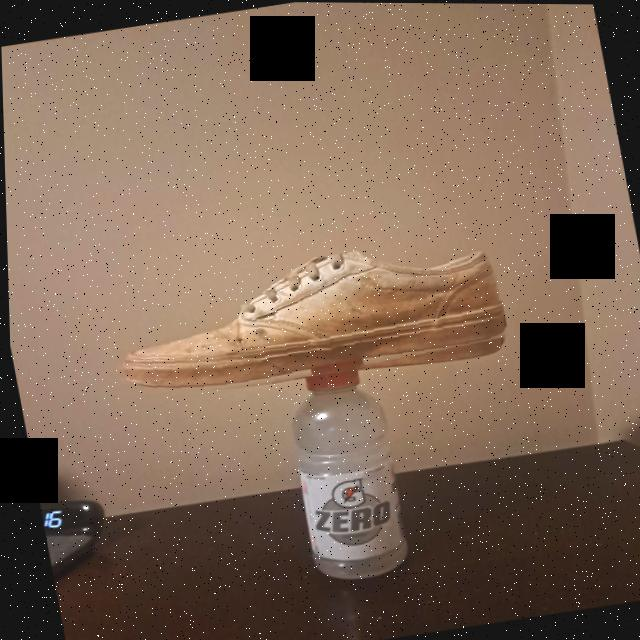shoe: (96, 228, 511, 415)
